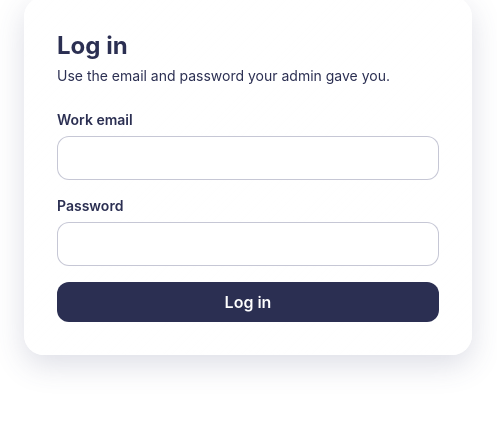
Test: LoginPage › shows the server message when the login is refused
Type "asha@atomplus.in" into the field labelled "Work email" at {"x": 248, "y": 158}, box [57,136,439,180]
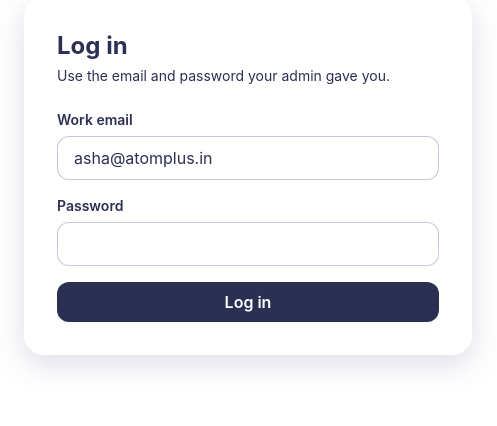
Type "wrong" into the password field labelled "Password" at {"x": 248, "y": 244}, box [57,222,439,266]
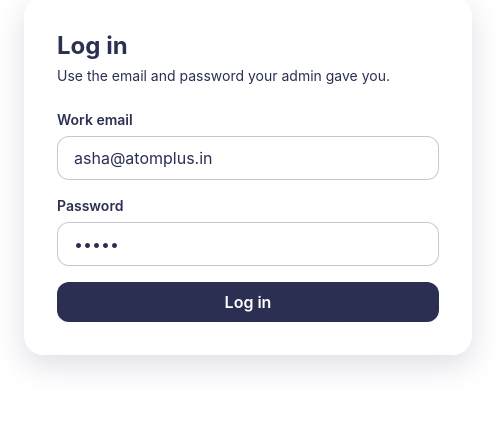
Click the button "Log in" at {"x": 248, "y": 302}, box [57,282,439,322]
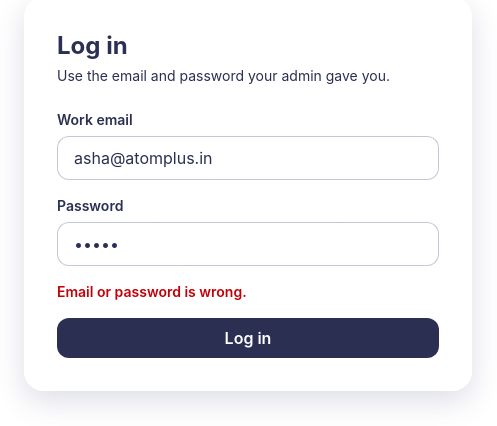
Now the message reads "Email or password is wrong.", box [57,283,247,300]
